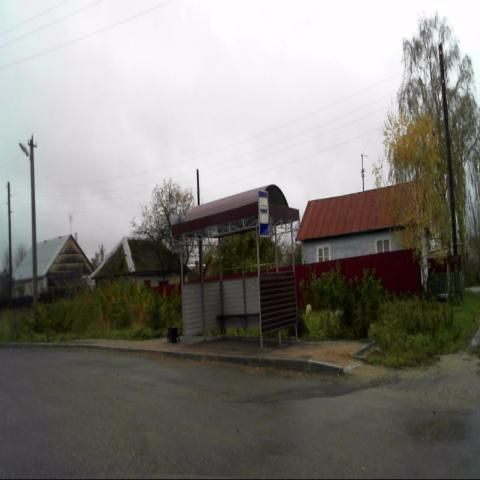5_16: (258, 190, 270, 237)
